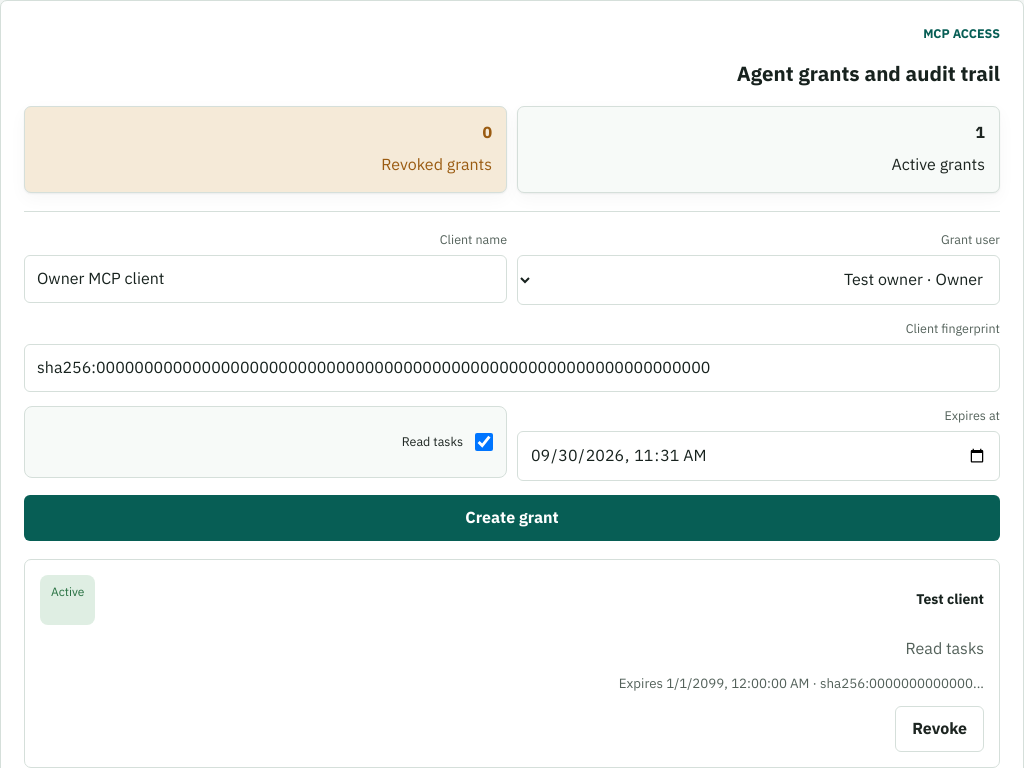
Test: create reports the actual write result (write_failed)
Click the button "Create grant": point(512, 518) [24,495,1000,541]
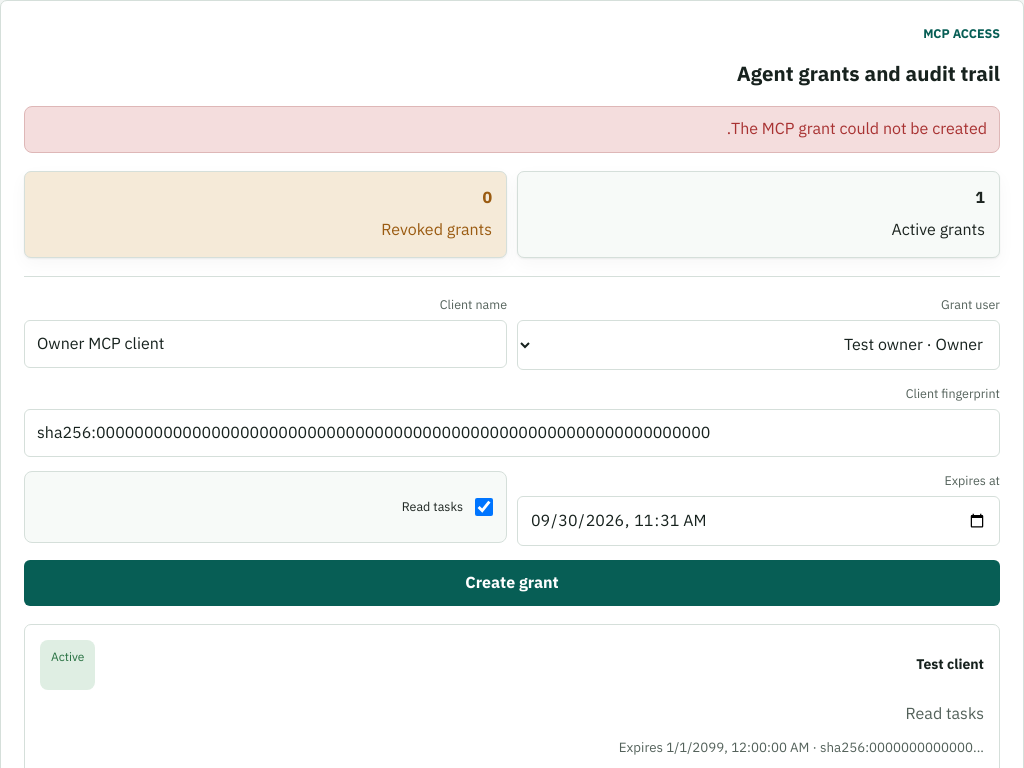
Now the text "The MCP grant could not be created." is shown, box [24,106,1000,153]
